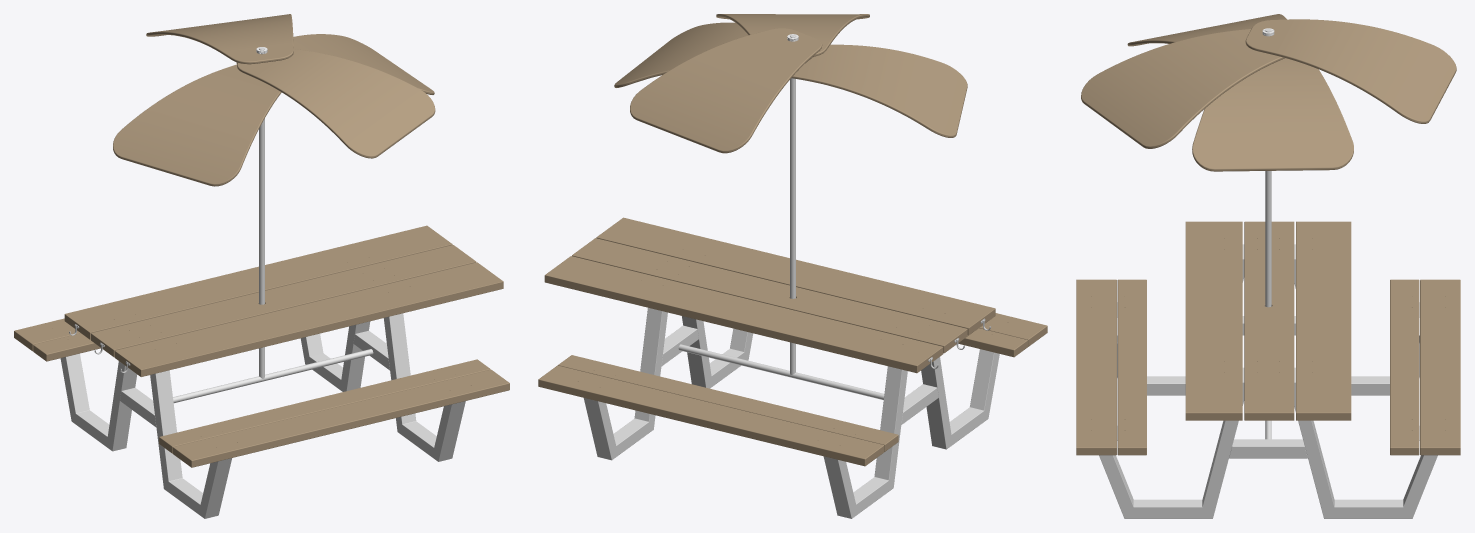
File: prueba glb.glb
The picture shows the model from 3 angles, left to right: view 1: azimuth 30°, elevation 25°; view 2: azimuth 150°, elevation 25°; view 3: azimuth 270°, elevation 25°; orthographic projection. The views are drawn at different scales.
Parts seen in each view (by area): view 1: Picnic Table DR 3; view 2: Picnic Table DR 3; view 3: Picnic Table DR 3.
Part boxes in pixels (box(x1,y1,x2,y2)): Picnic Table DR 3: box(14, 14, 509, 518); Picnic Table DR 3: box(538, 14, 1047, 518); Picnic Table DR 3: box(1076, 14, 1460, 518).
Size of the model in its own units: 209 by 212 by 174.
